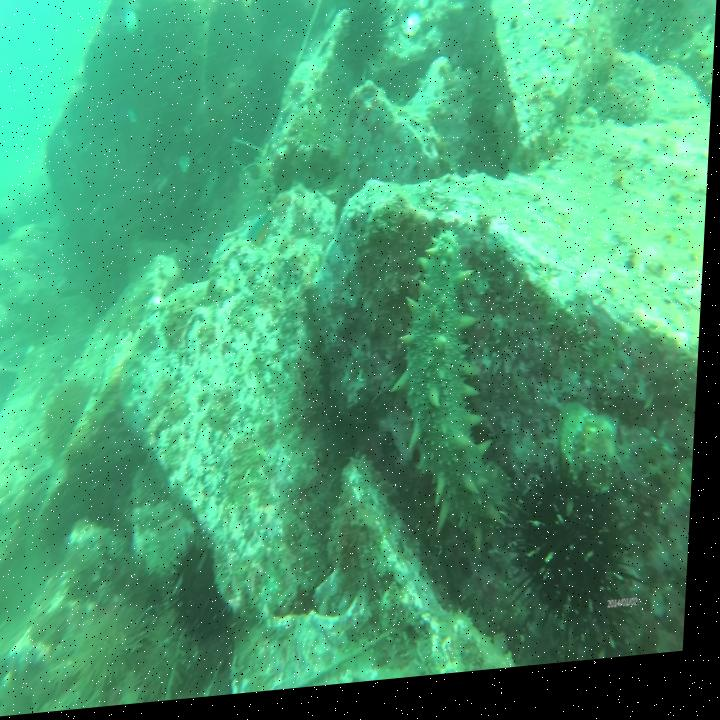echinus: (504, 452, 664, 671), (69, 596, 174, 711), (170, 536, 248, 655), (139, 606, 204, 696), (37, 381, 99, 461)
holothurian: (391, 234, 531, 567)
starfish: (143, 291, 169, 319)
